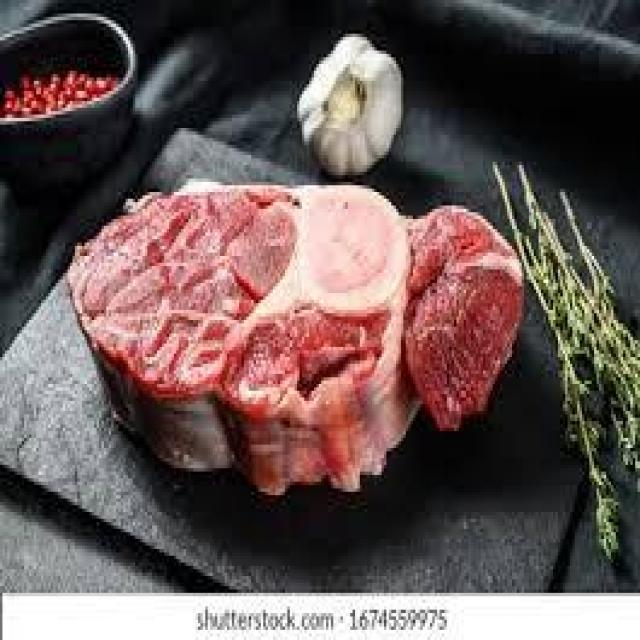Beef: (56, 163, 506, 512)
